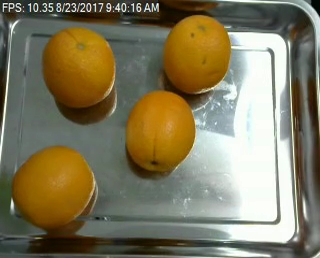Orange: (9, 143, 94, 225), (42, 26, 116, 107), (125, 90, 197, 171), (163, 13, 231, 93)
